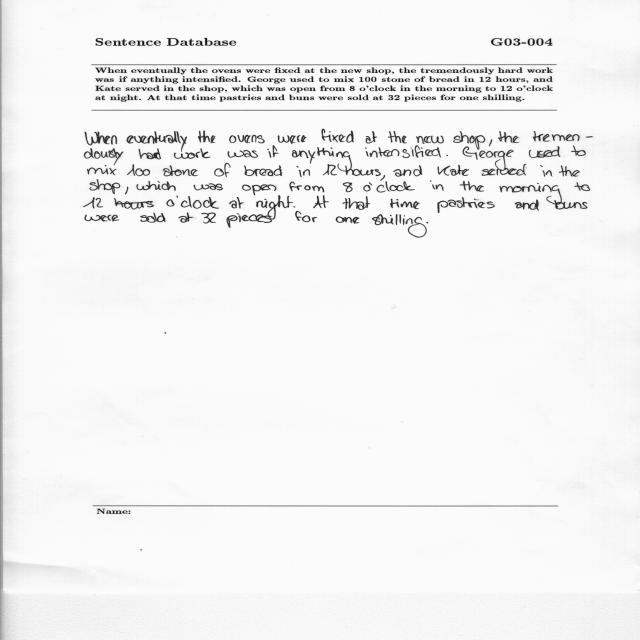word: (229, 195, 295, 223), (372, 214, 427, 238), (127, 131, 187, 152), (114, 196, 202, 210), (292, 147, 351, 164), (338, 161, 386, 181), (437, 197, 495, 213), (365, 146, 441, 158), (463, 147, 514, 161), (481, 161, 527, 176), (500, 183, 561, 194), (85, 148, 124, 165), (533, 131, 593, 142), (453, 131, 485, 150), (546, 195, 588, 209), (363, 182, 415, 193), (321, 129, 354, 143), (90, 180, 120, 195), (245, 166, 283, 177), (85, 132, 117, 145), (136, 181, 176, 191), (174, 148, 210, 159), (343, 196, 371, 210), (163, 166, 198, 177), (290, 182, 325, 193), (242, 185, 276, 196), (529, 146, 560, 158), (438, 165, 470, 176), (390, 199, 420, 209), (88, 165, 117, 175), (229, 135, 265, 143), (127, 164, 150, 176), (460, 181, 485, 192), (515, 200, 539, 211), (140, 213, 166, 223), (138, 149, 161, 160), (278, 135, 306, 144), (498, 131, 519, 143), (295, 212, 317, 223), (228, 150, 258, 158), (214, 163, 231, 177), (85, 215, 119, 222), (198, 131, 216, 144), (559, 166, 580, 177), (388, 131, 407, 143), (226, 213, 241, 228), (416, 136, 444, 144), (84, 197, 103, 208), (194, 184, 223, 191), (203, 197, 219, 209), (336, 216, 360, 224), (201, 213, 216, 224), (540, 165, 553, 177), (323, 164, 337, 175), (430, 180, 444, 191), (571, 146, 586, 156), (178, 213, 193, 223), (267, 146, 279, 158), (393, 169, 411, 177), (575, 182, 591, 191), (297, 166, 310, 177), (366, 131, 377, 143), (313, 196, 323, 208), (343, 182, 353, 192), (414, 166, 423, 177), (323, 195, 329, 208), (125, 187, 128, 195), (489, 140, 492, 147), (446, 155, 448, 156), (427, 222, 429, 223)
